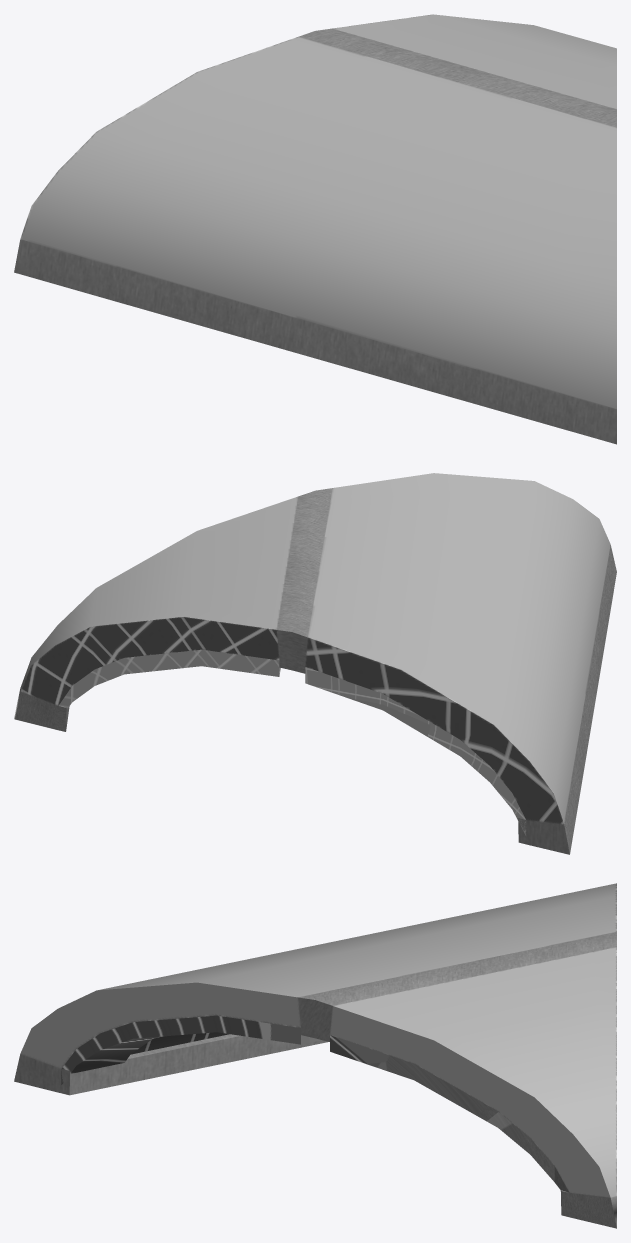
The model's file is Mall_Ceiling_Corner.fbx.
3 views of the same model, one above another, from view 1: azimuth 30°, elevation 25°; view 2: azimuth 150°, elevation 25°; view 3: azimuth 270°, elevation 25° (orthographic). The views are drawn at different scales.
Visible parts, largest first — view 1: pasted__h; view 2: pasted__h; view 3: pasted__h.
Boxes of the visible parts, x1=… form: pasted__h: x1=14, y1=14, x2=616, y2=444; pasted__h: x1=14, y1=473, x2=616, y2=854; pasted__h: x1=14, y1=883, x2=616, y2=1228.
Bounding box in the file's own units: 17.69 × 4.72 × 16.61.
1 material, 1 textured.
